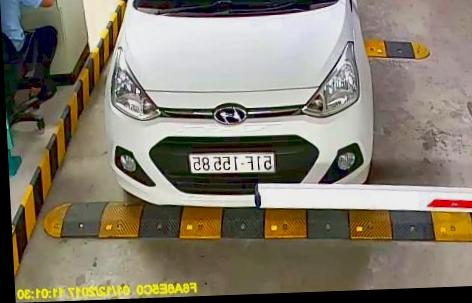License_Plate: (188, 148, 279, 177)
